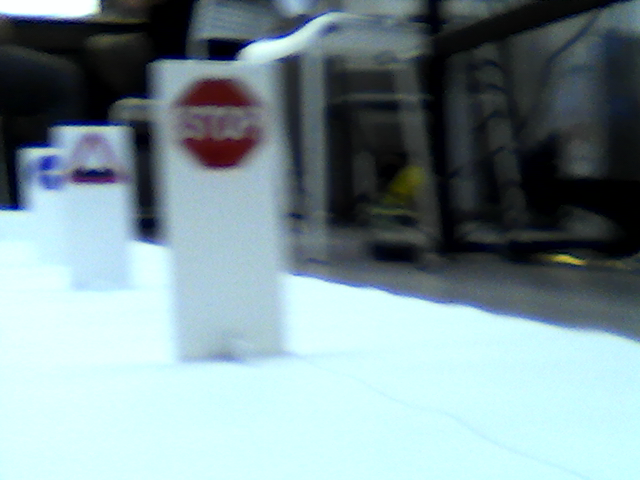Stop: (177, 73, 259, 170)
